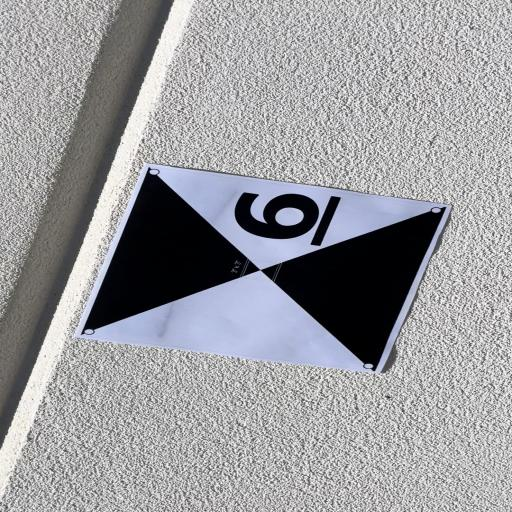target6: (73, 161, 455, 374)
